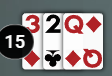2: (43, 12, 62, 36)
3: (23, 13, 42, 35)
q: (63, 13, 85, 36)
